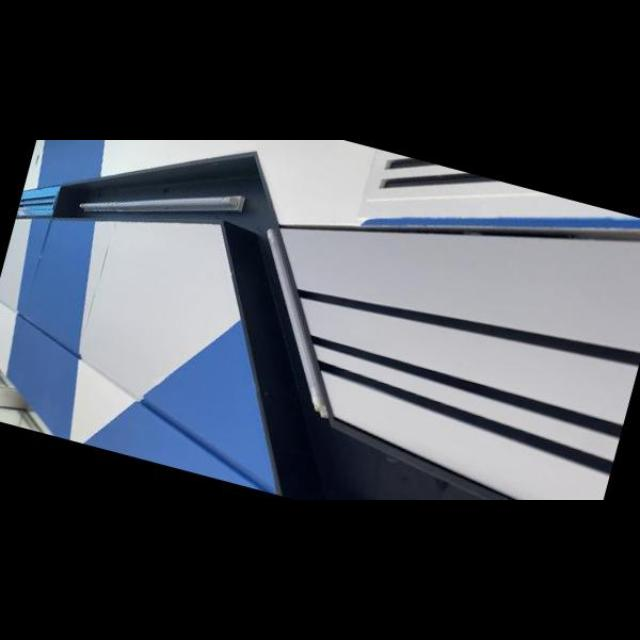Straight-Tube-Fluorescent-Lamp: (218, 190, 392, 436), (68, 140, 255, 264)
